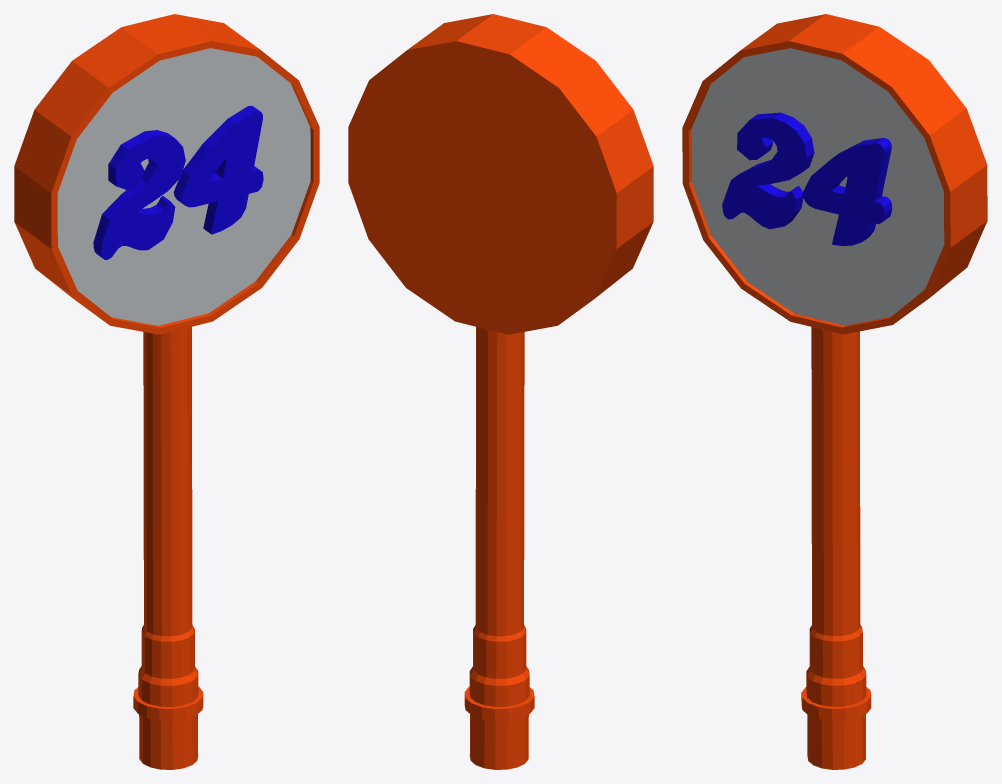
File: Gas_Station_Sign.gltf
3 renders of one model, left to right at view 1: azimuth 30°, elevation 25°; view 2: azimuth 150°, elevation 25°; view 3: azimuth 330°, elevation 25°, orthographic.
Visible parts, largest first — view 1: Gas_Station_Sign, Text_Gas_Station_Sign; view 2: Gas_Station_Sign; view 3: Gas_Station_Sign, Text_Gas_Station_Sign.
Part boxes in pixels (box(x1,y1,x2,y2)): Gas_Station_Sign: box(14, 14, 319, 769); Text_Gas_Station_Sign: box(93, 105, 263, 259); Gas_Station_Sign: box(348, 14, 653, 769); Gas_Station_Sign: box(682, 14, 987, 769); Text_Gas_Station_Sign: box(722, 112, 892, 245).
Size of the model in its own units: 1.09 by 2.81 by 0.2947.
